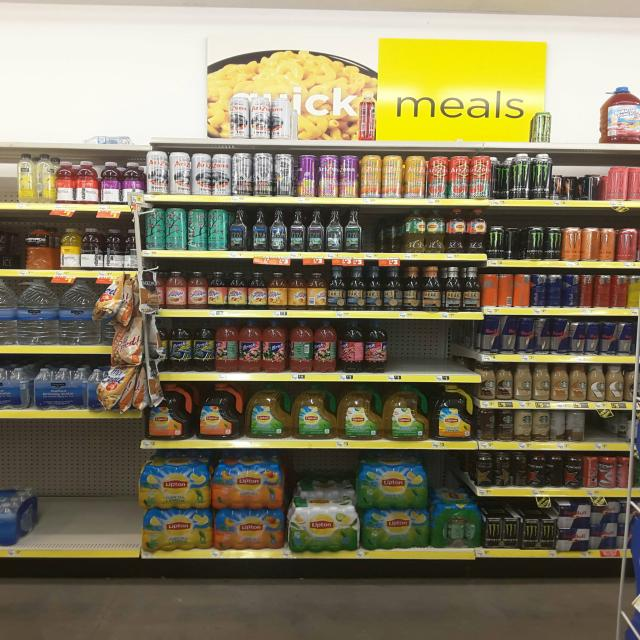void: (98, 420, 138, 562), (61, 421, 95, 564), (32, 422, 59, 566), (45, 66, 87, 152), (558, 74, 602, 152), (484, 73, 524, 151), (290, 75, 331, 148), (130, 72, 166, 153), (167, 69, 202, 149), (92, 69, 125, 152), (8, 70, 41, 150), (448, 74, 482, 150), (414, 75, 444, 153), (204, 67, 230, 150), (379, 79, 410, 147), (333, 73, 361, 148), (448, 321, 478, 387), (368, 203, 397, 262), (394, 323, 420, 383), (576, 152, 603, 208), (424, 321, 444, 384), (553, 152, 572, 210), (612, 412, 632, 459), (592, 411, 606, 457)
